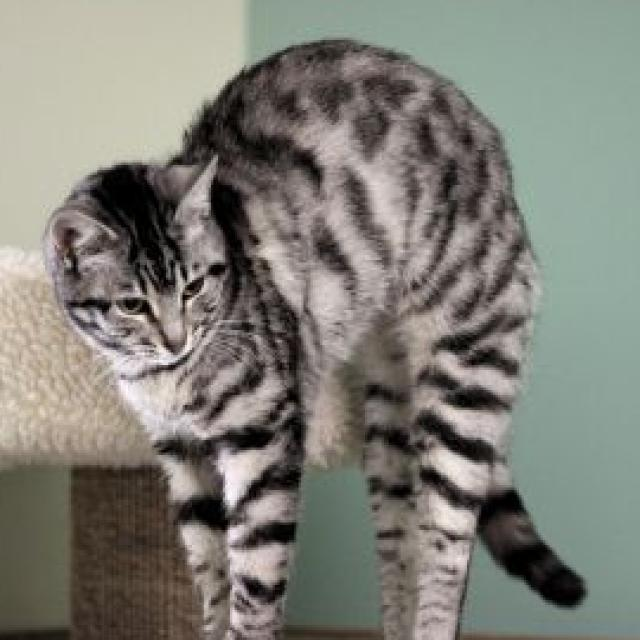Egyptian Mau: (35, 27, 590, 640)
